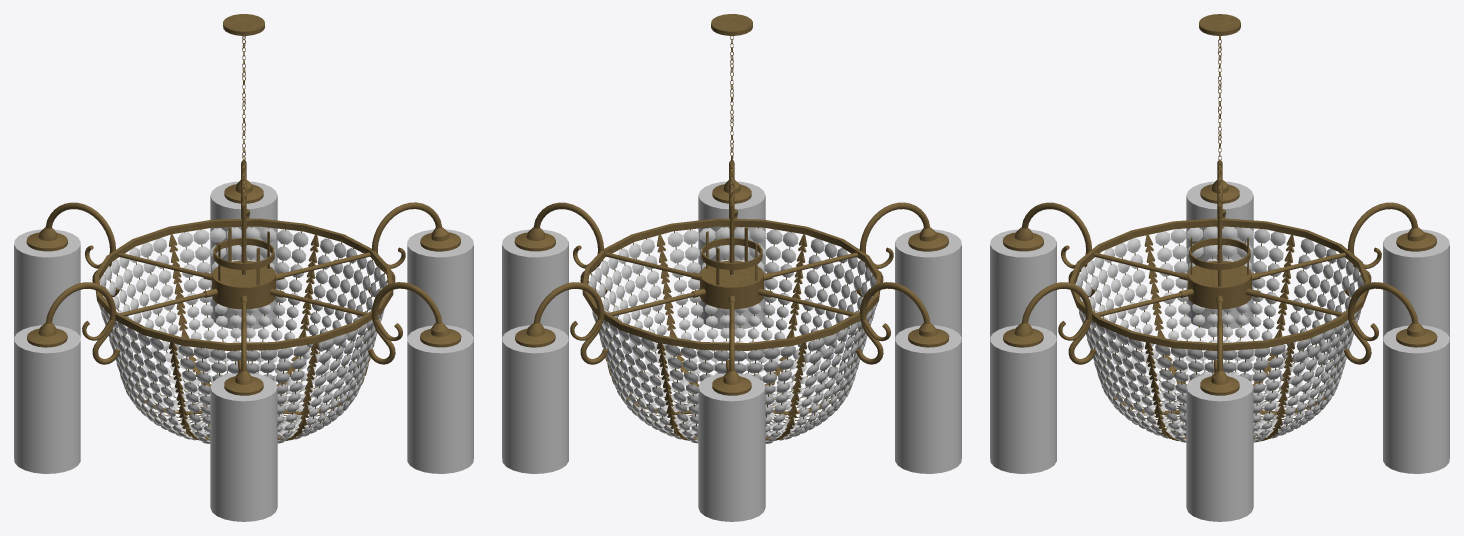
File: SM_Chandelier_3.fbx
3 renders of one model, left to right at view 1: azimuth 30°, elevation 25°; view 2: azimuth 150°, elevation 25°; view 3: azimuth 270°, elevation 25°, orthographic.
Visible parts, largest first — view 1: SM_Chandelier_3; view 2: SM_Chandelier_3; view 3: SM_Chandelier_3.
Boxes of the visible parts, x1,y1,x2,y2 form: SM_Chandelier_3: (14, 14, 473, 521); SM_Chandelier_3: (502, 14, 961, 521); SM_Chandelier_3: (990, 14, 1449, 521).
Bounding box in the file's own units: 195 × 172 × 162.
3 materials, 1 textured.
